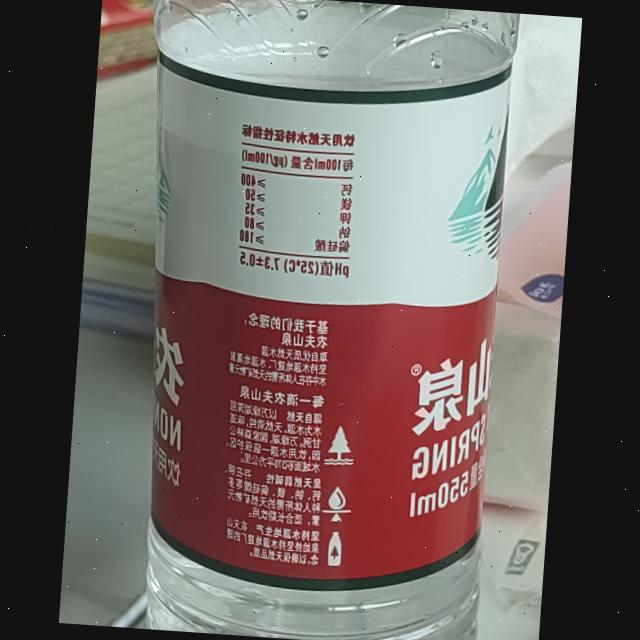trash: (109, 0, 526, 640)
